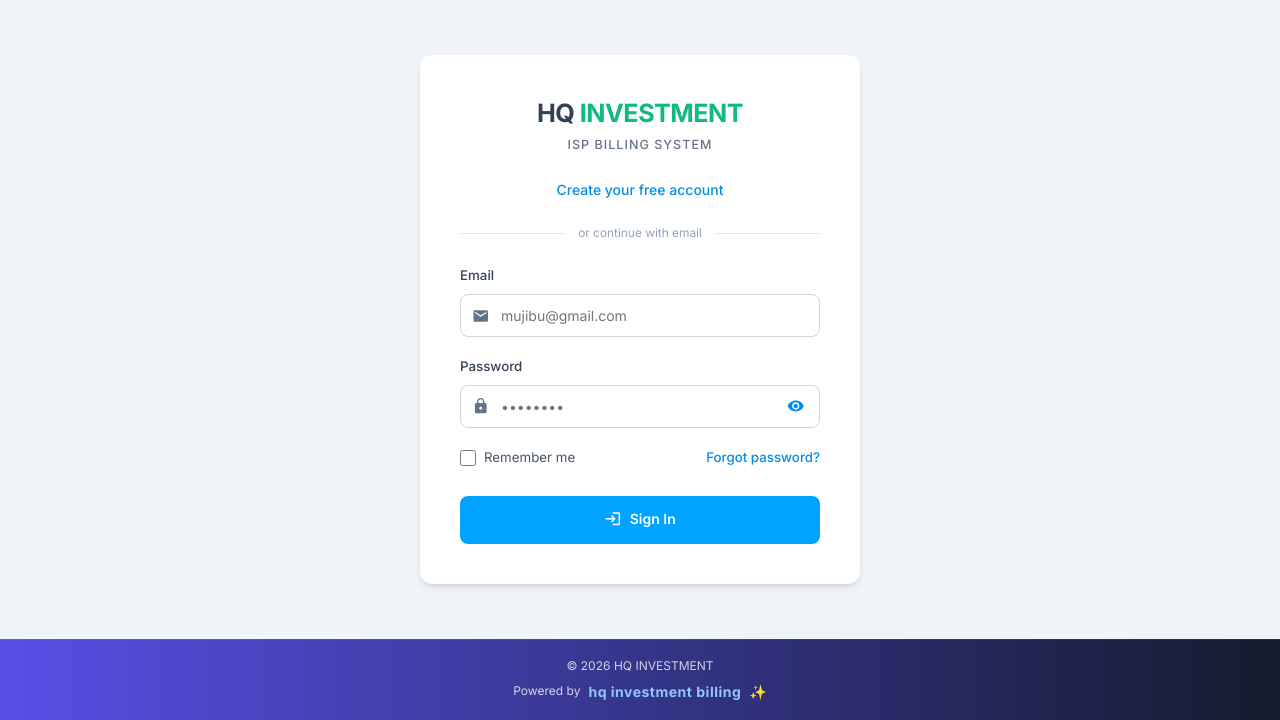
Test: Login page › shows an error and blocks submission when the email is invalid
In the field with placeholder "mujibu@gmail.com": point(640, 316) [460,294,820,337], type "not-an-email"
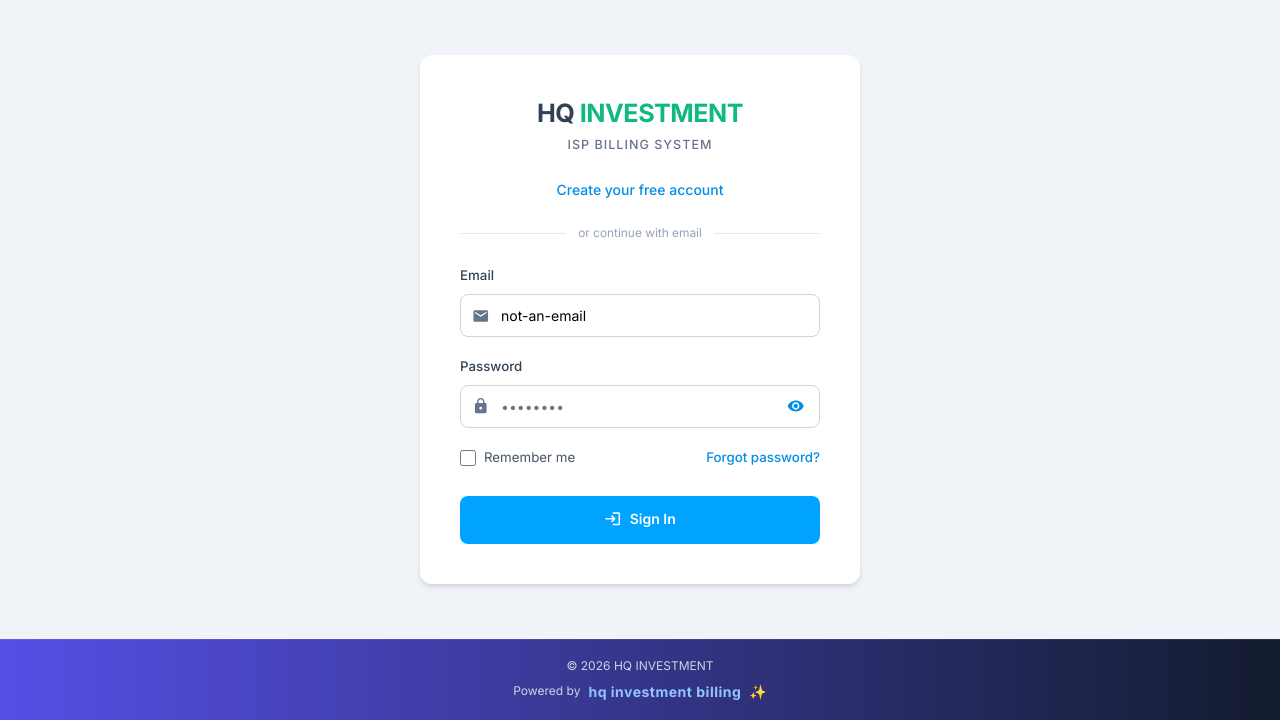
In the password field with placeholder "••••••••": point(640, 406) [460,385,820,428], type "secret123"
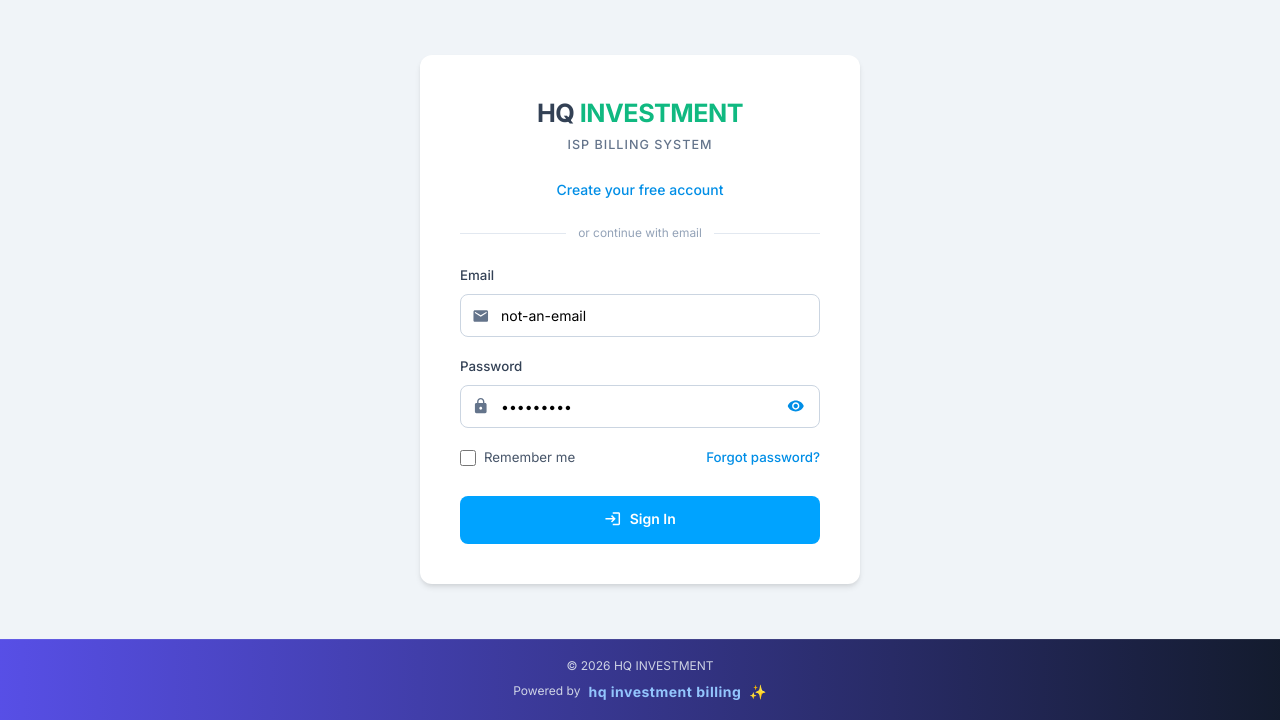
Click the button "Sign In": point(640, 520) [460,496,820,544]
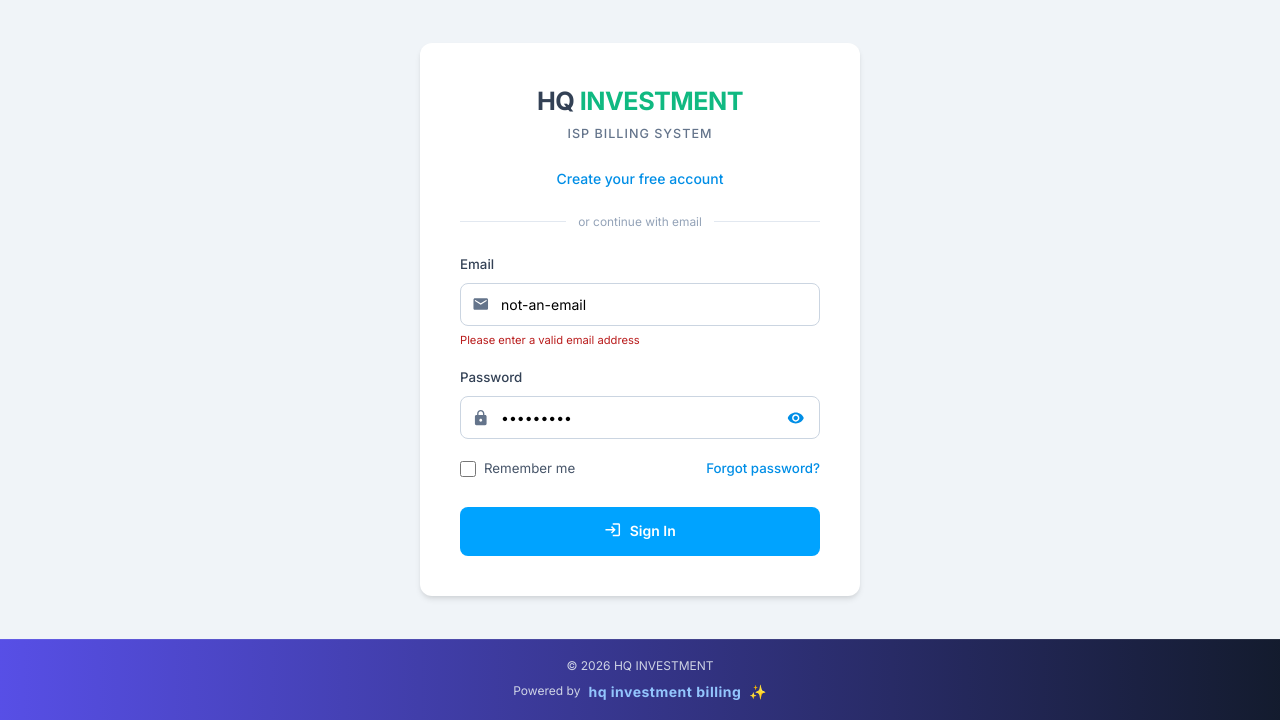
Result: the text "Please enter a valid email address" is shown at [460,333,640,347]
